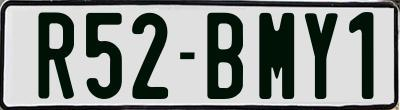1: (349, 9, 374, 97)
2: (131, 10, 173, 98)
5: (86, 13, 128, 105)
B: (207, 11, 244, 101)
M: (256, 10, 295, 101)
R: (35, 9, 74, 97)
Y: (305, 12, 339, 101)
